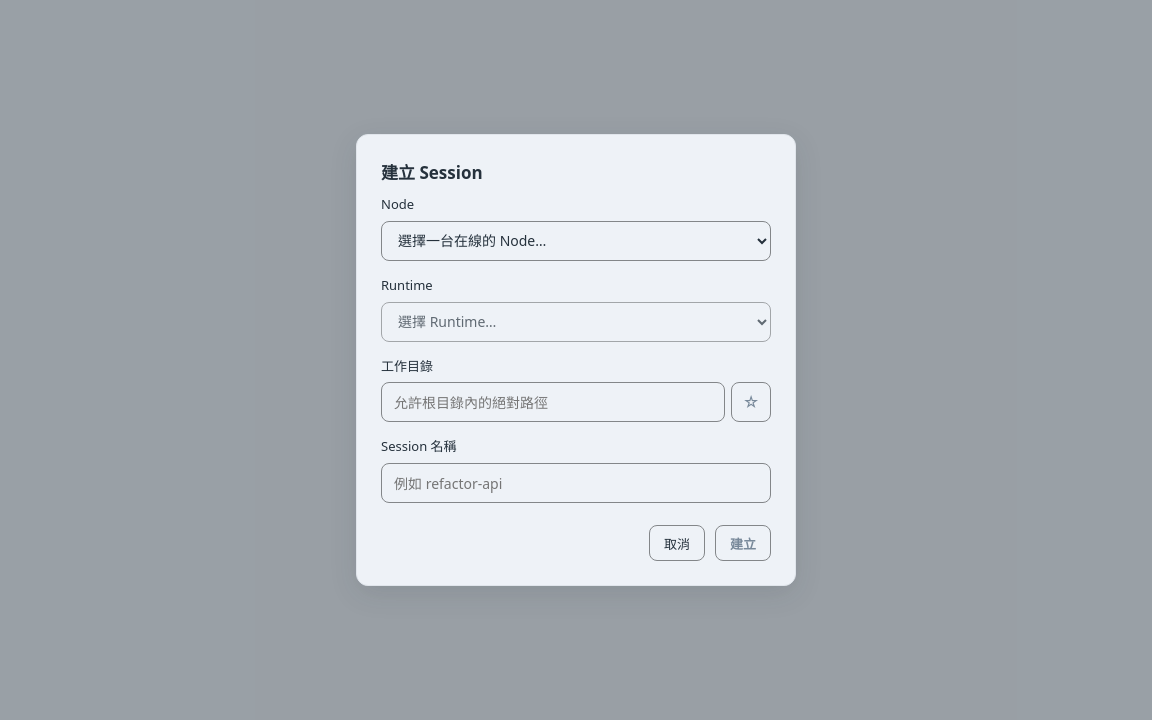
it: NewSessionDialog shortcuts › lists recents and favourites for the selected node only
Step 1. Select "vm (vm)" in the dropdown labelled "Node" → [576, 241], box [381, 221, 771, 261]
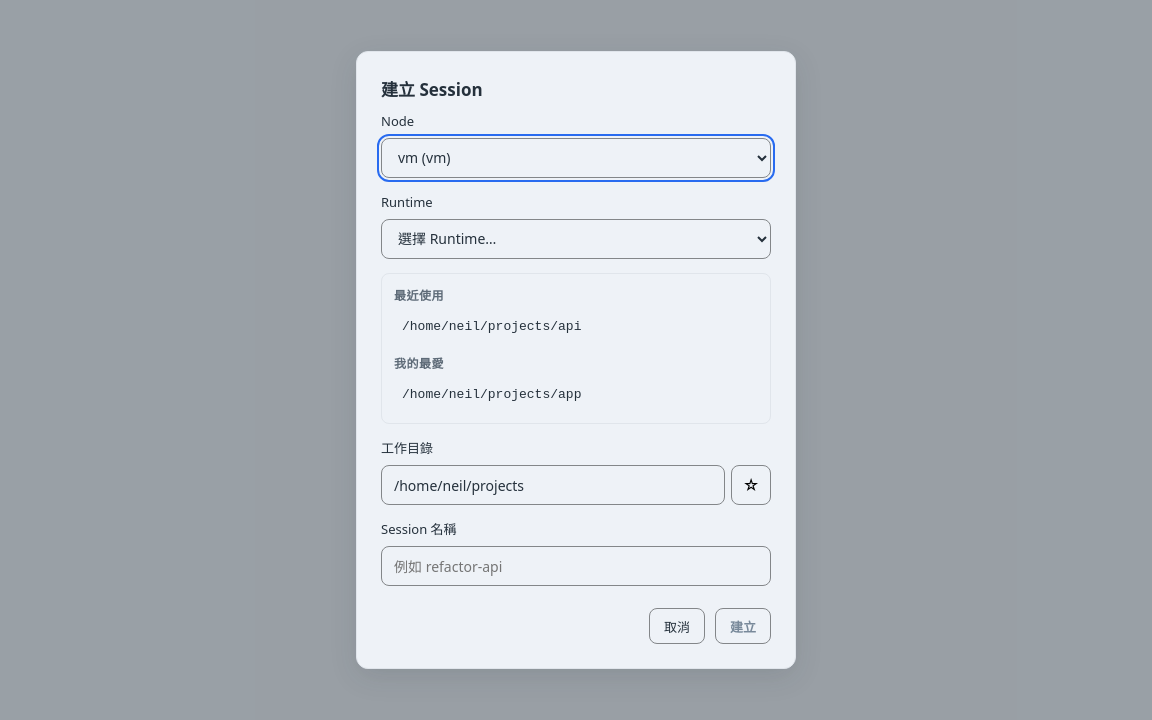
Result: the element named "工作目錄捷徑" shows "/home/neil/projects/app" at [394, 379, 758, 412]
Result: the element named "工作目錄捷徑" shows "/home/neil/projects/api" at [394, 311, 758, 344]
